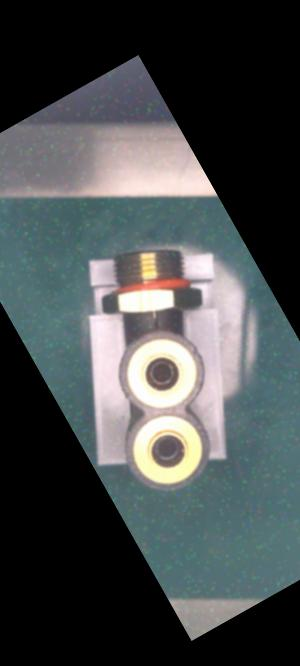craze: (147, 311, 165, 331)
